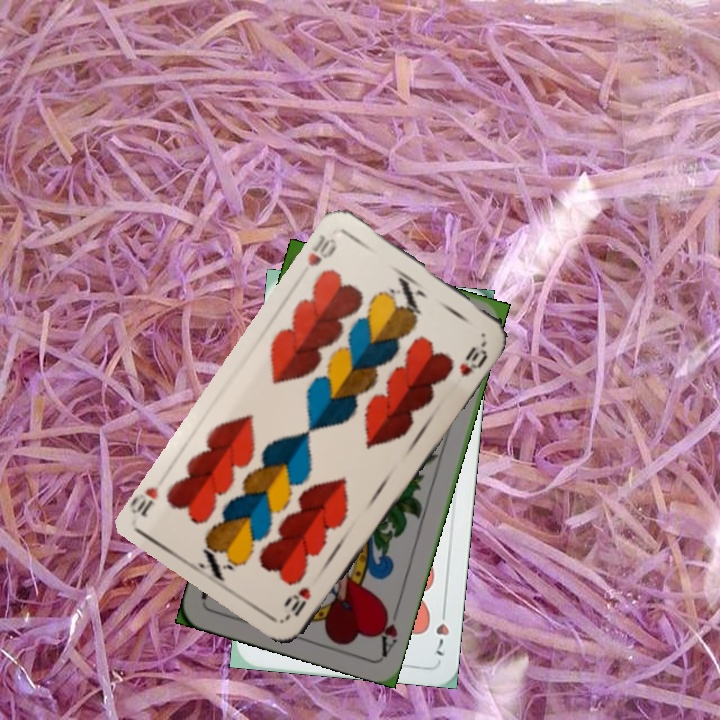H10: (303, 231, 340, 269), (282, 583, 314, 621)
H7: (431, 602, 452, 659)
HA: (373, 599, 402, 658)
